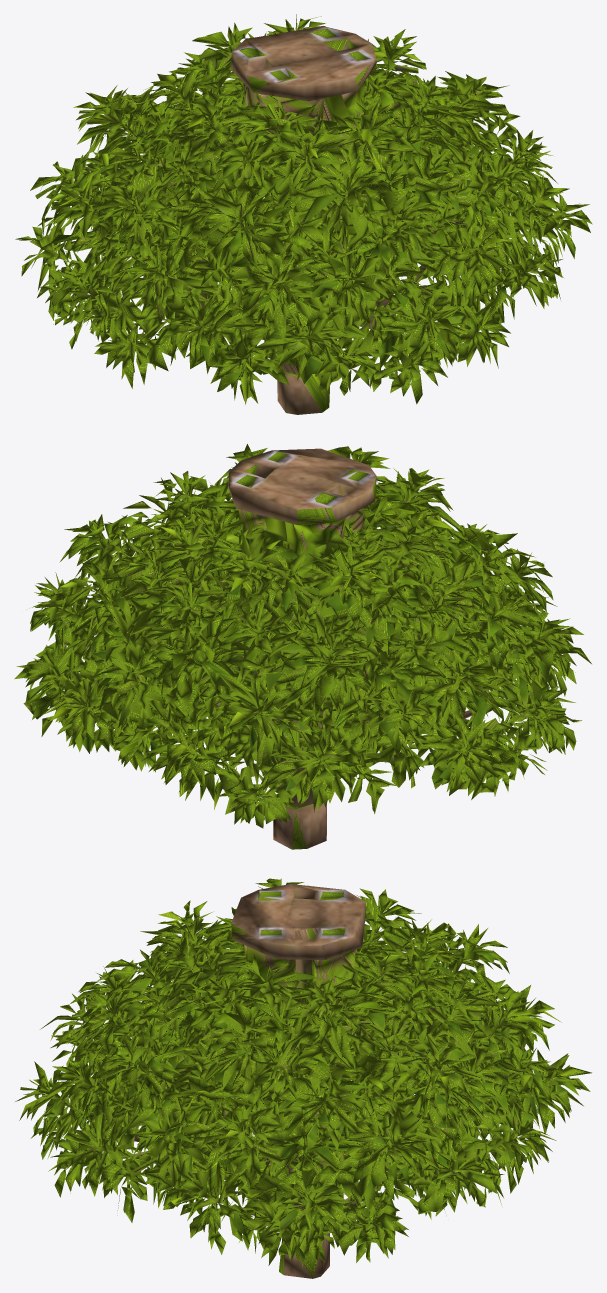
Rendered from tree_crown.glb.
3 renders of one model, top to bottom at view 1: azimuth 30°, elevation 25°; view 2: azimuth 150°, elevation 25°; view 3: azimuth 270°, elevation 25°, orthographic. The views are drawn at different scales.
Size of the model in its own units: 1.89 by 1.25 by 1.85.
Materials: 1 (1 with a texture image).
